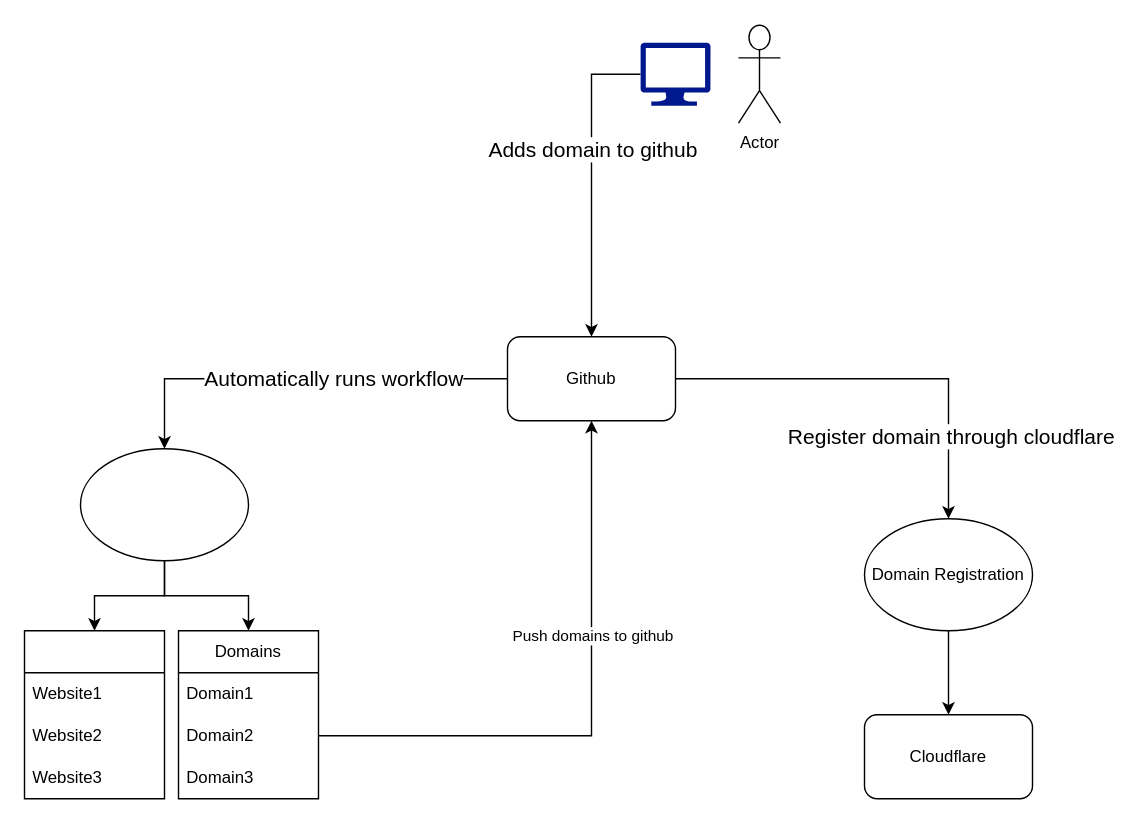
Image size: 1138x823. Some labels were removed from this diagram. Each missing label, with the box of its shape:
Website Creation: (79, 447, 248, 561)
Websites: (23, 629, 164, 799)
